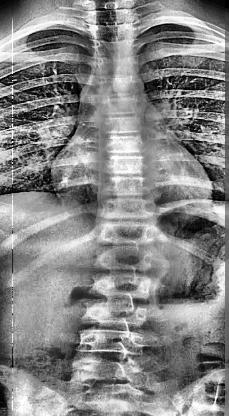Vertebrae: (70, 357, 142, 389), (88, 303, 150, 331), (80, 332, 146, 356), (100, 222, 160, 248), (99, 245, 154, 273), (99, 197, 156, 223), (97, 276, 152, 302), (96, 156, 150, 178), (94, 135, 150, 156), (98, 95, 146, 119), (95, 74, 143, 98), (98, 178, 150, 200), (92, 22, 140, 42), (93, 55, 136, 77), (94, 38, 139, 58), (96, 116, 144, 134)
